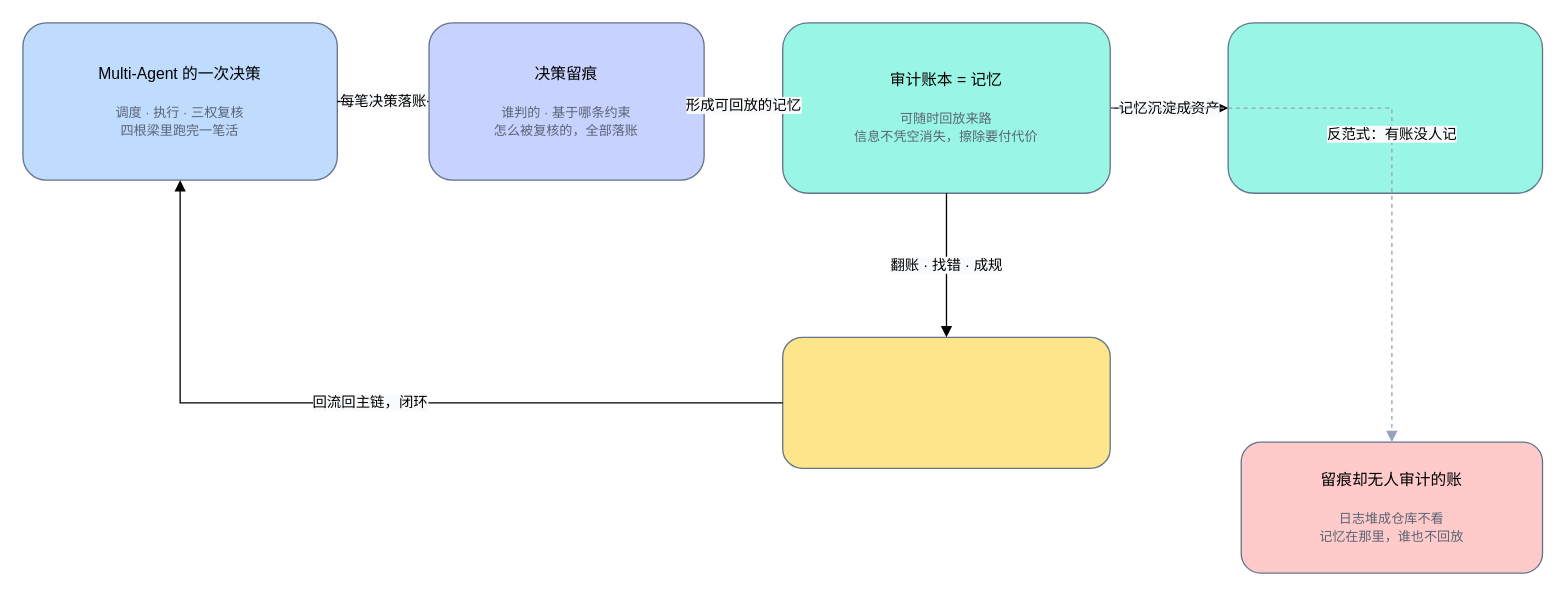
This 1565x596 diagram has some shape labels left out. The shapes that lost their labels are listed below. From the top down, each one's centre as x and y in pixels, then its label:
At (x=1385, y=107): "知识资产沉淀 留痕 → 回流 → 变成规则 可复用的判断资产".
At (x=945, y=402): "教训回流成规矩 账本里翻出的错 编译回确定性不变量".
